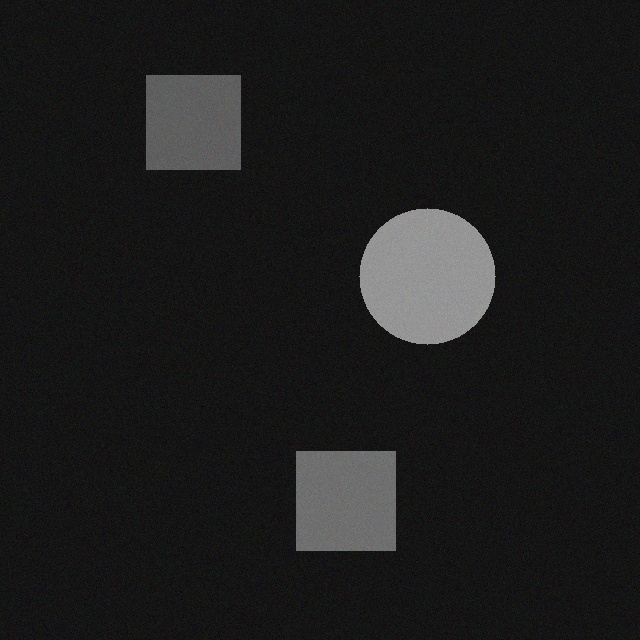circle: (358, 206, 494, 342)
square: (295, 449, 394, 548), (145, 73, 239, 167)
